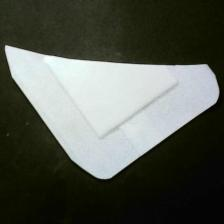Cut: (4, 45, 221, 183)
